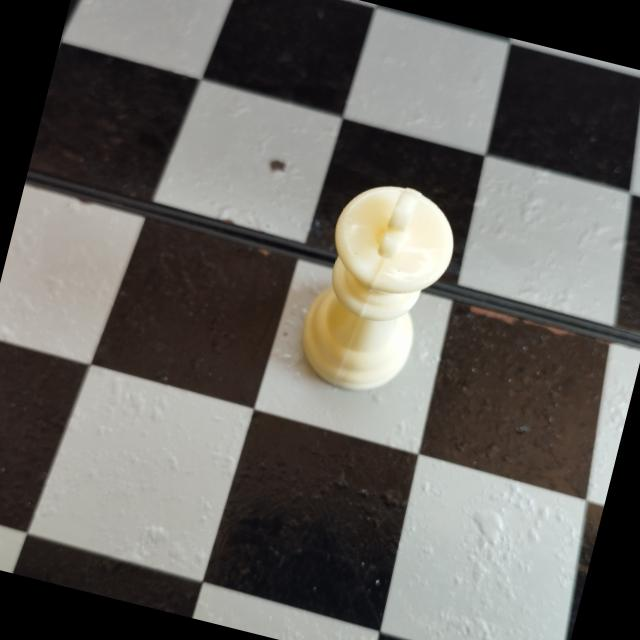White King: (284, 162, 476, 424)
